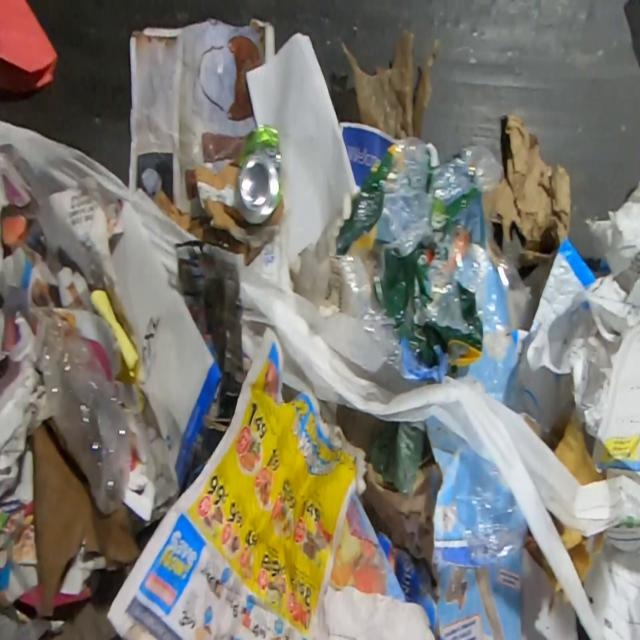cardboard: (31, 417, 142, 609), (482, 114, 571, 268)
metal: (235, 123, 284, 226)
soft_plastic: (336, 135, 532, 415), (35, 311, 133, 515), (518, 241, 597, 429), (339, 28, 444, 140), (448, 444, 532, 578)
